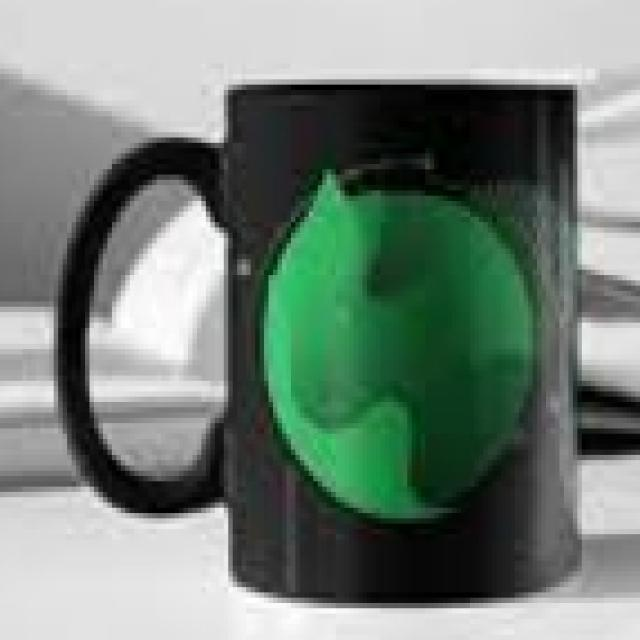taza: (41, 80, 582, 606)
